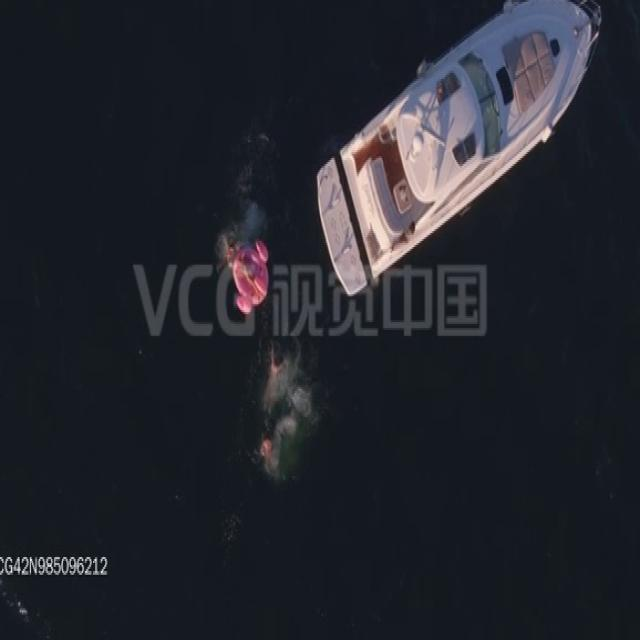houseboat: (314, 0, 603, 298)
